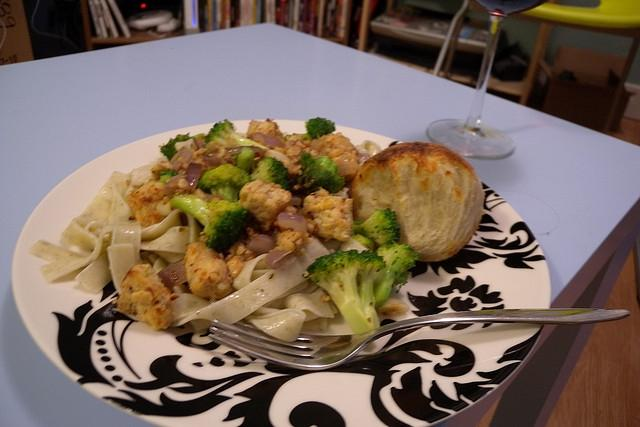broccoli: (307, 250, 386, 334), (172, 193, 250, 252), (373, 241, 420, 308), (296, 150, 347, 194), (196, 164, 255, 202), (204, 119, 271, 150), (351, 208, 401, 245), (250, 156, 291, 191), (284, 117, 336, 142), (159, 132, 204, 160), (232, 148, 255, 172)
